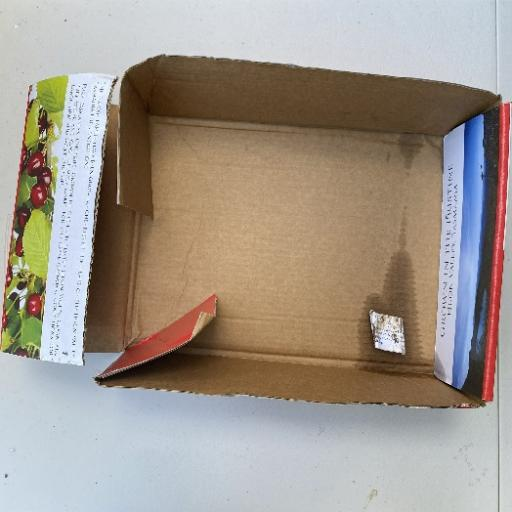Cardboard: (2, 53, 508, 409)
